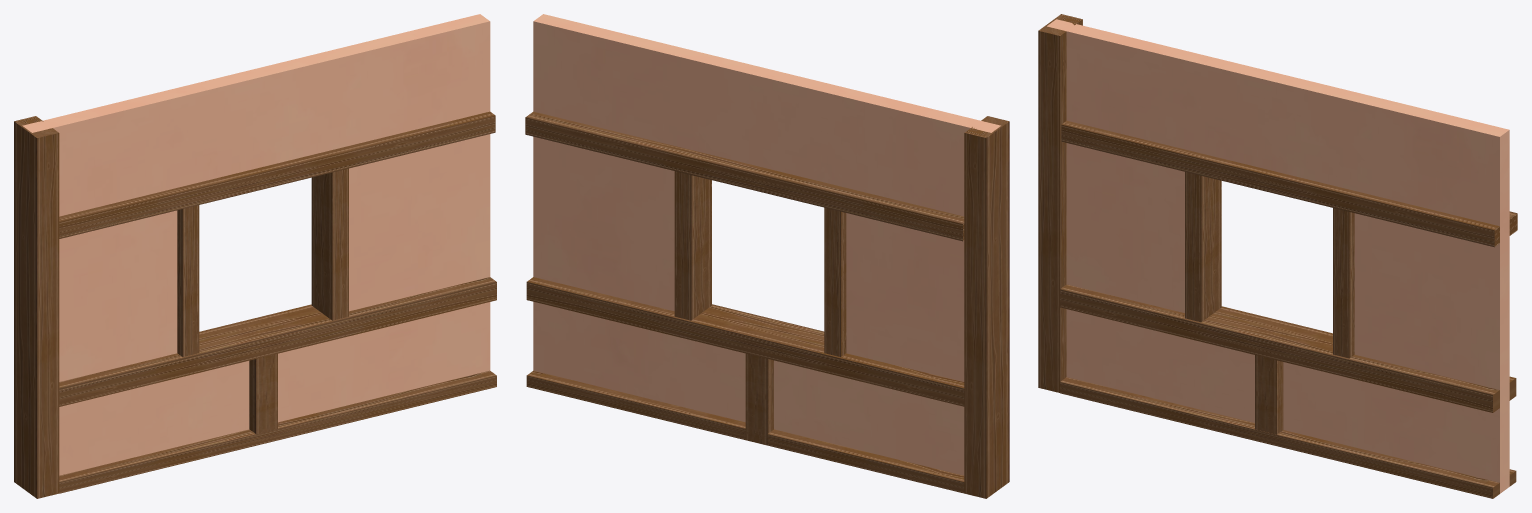
File: SM_Window_Wall_02_wrose.glb
3 renders of one model, left to right at view 1: azimuth 30°, elevation 25°; view 2: azimuth 150°, elevation 25°; view 3: azimuth 330°, elevation 25°, orthographic.
Visible parts, largest first — view 1: SM_Window_Wall_02; view 2: SM_Window_Wall_02; view 3: SM_Window_Wall_02.
Part boxes in pixels (<box>): SM_Window_Wall_02: <box>14,14,496,498</box>; SM_Window_Wall_02: <box>525,14,1009,498</box>; SM_Window_Wall_02: <box>1038,14,1517,498</box>.
Bounding box in the file's own units: 4 × 3 × 0.3736.
Materials: 2 (2 with a texture image).
